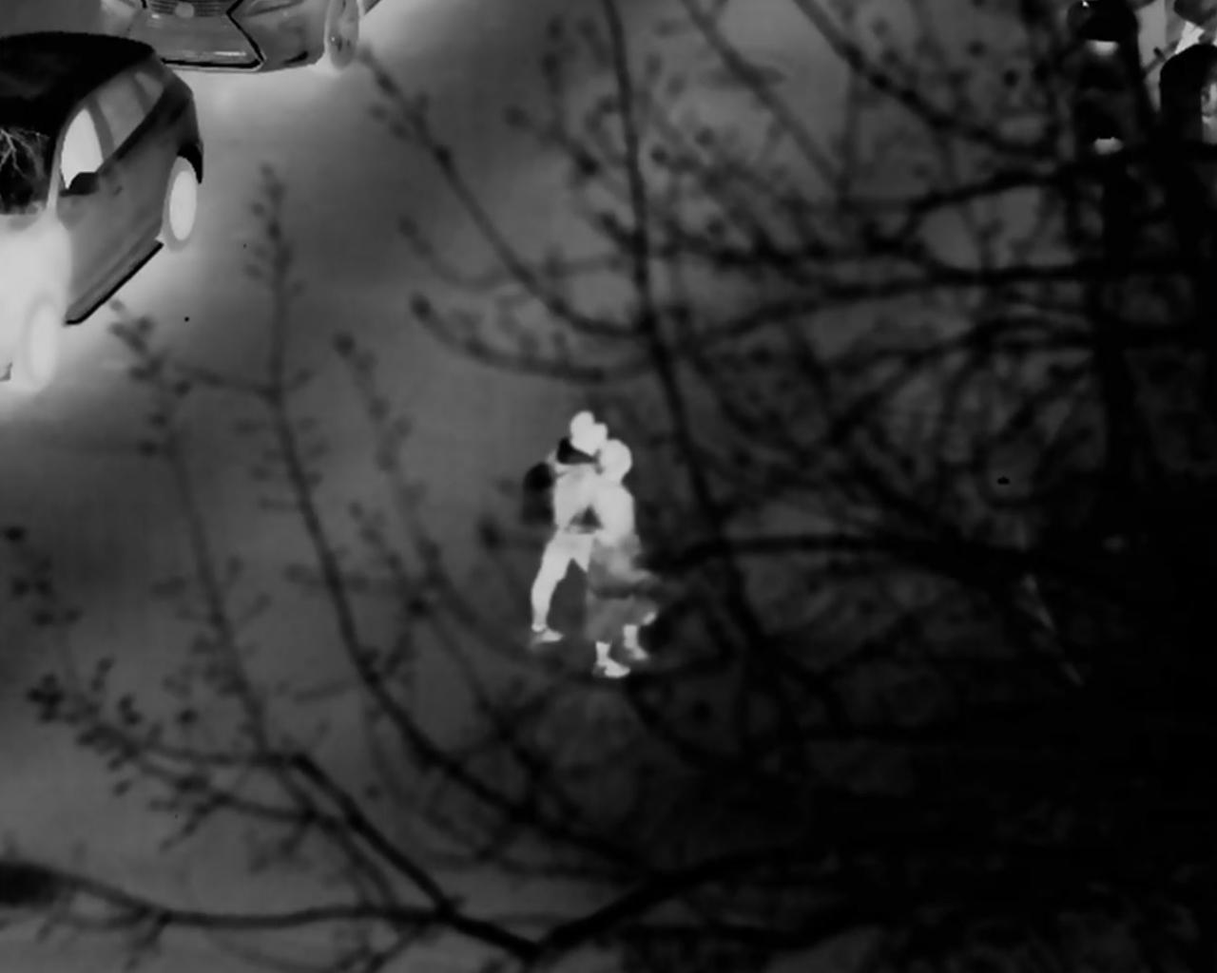person: (529, 401, 628, 639), (576, 437, 653, 678)
